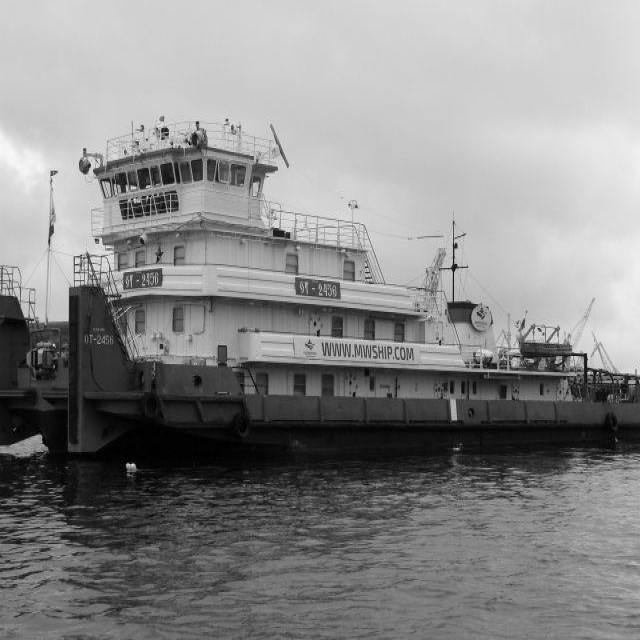tugboat: (1, 115, 640, 479)
